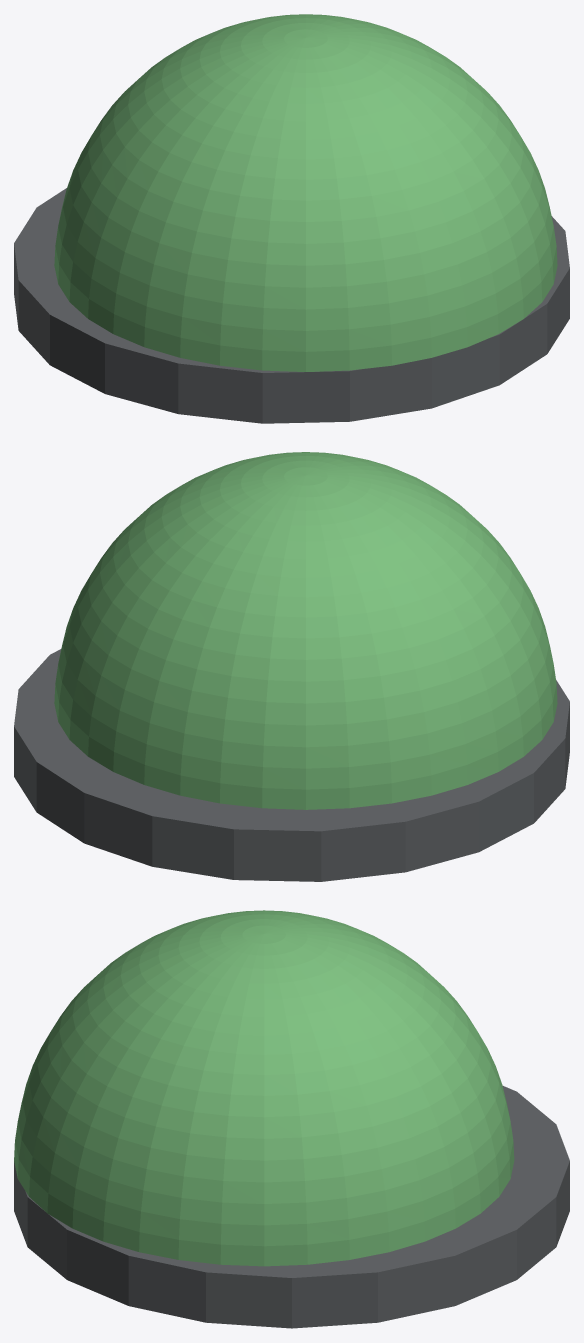
Rendered from green-but.glb.
3 renders of one model, top to bottom at view 1: azimuth 30°, elevation 25°; view 2: azimuth 150°, elevation 25°; view 3: azimuth 270°, elevation 25°, orthographic.
Visible parts, largest first — view 1: Mesh_Mesh_head_geo.001_lambert2SG.001; view 2: Mesh_Mesh_head_geo.001_lambert2SG.001; view 3: Mesh_Mesh_head_geo.001_lambert2SG.001.
Part boxes in pixels (box(x1,y1,x2,y2)): Mesh_Mesh_head_geo.001_lambert2SG.001: box(14, 14, 569, 423); Mesh_Mesh_head_geo.001_lambert2SG.001: box(14, 452, 569, 881); Mesh_Mesh_head_geo.001_lambert2SG.001: box(14, 910, 569, 1328).
Bounding box in the file's own units: 20 × 11 × 20.
